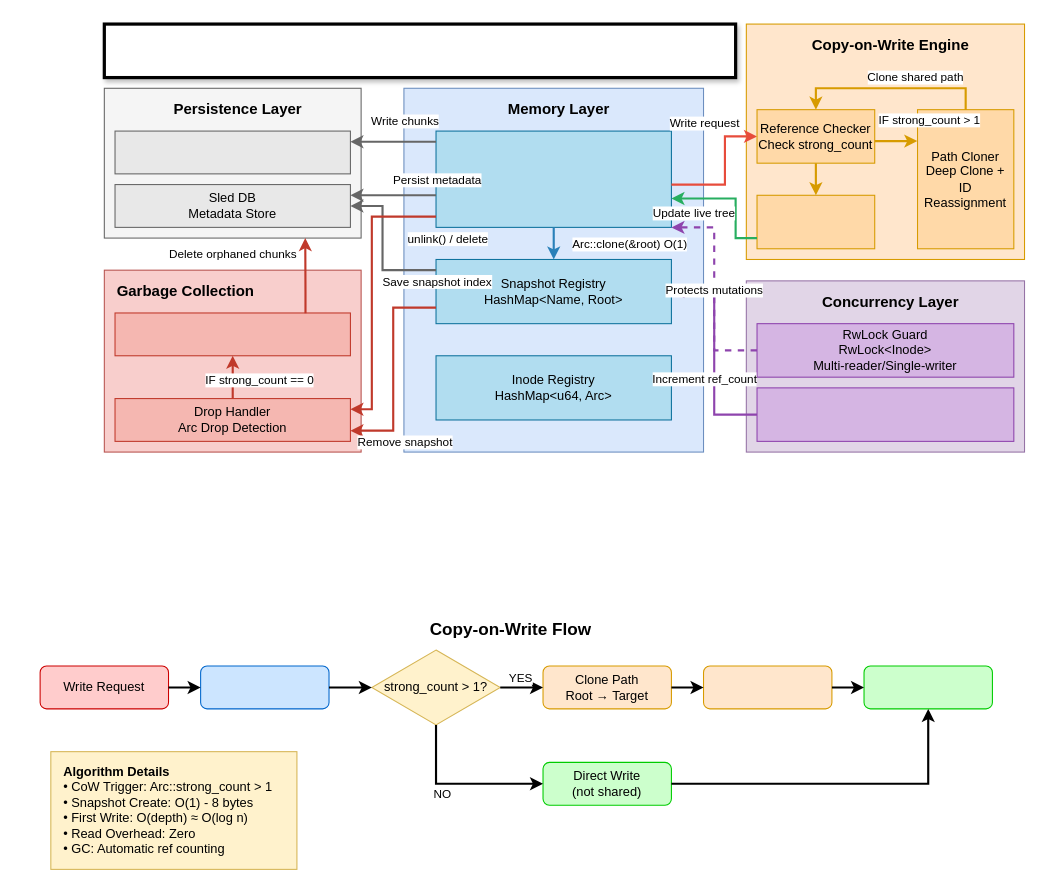
This 1043x888 diagram has some shape labels left out. The shapes that lost their labels are listed below. From the top down, each one's centre as x and y in pixels, then its label:
the point at 420,52: Temporal Snapshot System - Technical Architecture
the point at 232,152: CAS Store Content-Addressable Chunks
the point at 553,178: Inode Tree Arc<RwLock<Inode>>
the point at 815,221: Divergence Handler Split Live/Snapshot
the point at 232,334: Cascade Cleanup Recursive Dealloc
the point at 885,414: Arc Counting Reference Counting strong_count tracker
the point at 264,687: Inode Lookup
the point at 767,687: Reassign IDs Update Parents
the point at 927,687: Write Data
